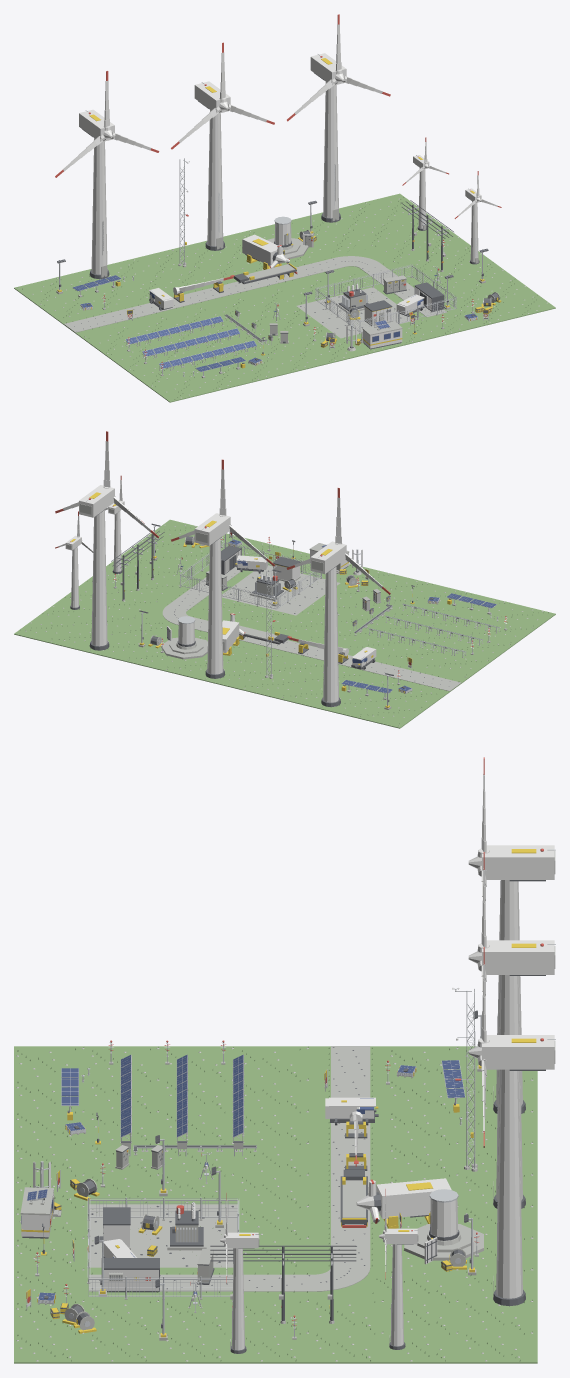
Rendered from wind-and-solar-energy-farm-ridge-wind-an-5fa78ffb-starter-scene__34086.glb.
3 views of the same model, one above another, from view 1: azimuth 30°, elevation 25°; view 2: azimuth 150°, elevation 25°; view 3: azimuth 270°, elevation 25° (orthographic). The views are drawn at different scales.
Visible parts, largest first — view 1: 071-wind-turbine-tower/1, 072-wind-turbine-tower/1, 070-wind-turbine-tower/1, 006-site-ground-tile/0, 027-site-ground-tile/0, 069-site-ground-tile/0, 055-site-ground-tile/0, 013-site-ground-tile/0, 057-site-ground-tile/0, 031-site-ground-tile/0, 000-site-ground-tile/0, 021-site-ground-tile/0 (+52 smaller); view 2: 071-wind-turbine-tower/1, 070-wind-turbine-tower/1, 072-wind-turbine-tower/1, 063-site-ground-tile/0, 000-site-ground-tile/0, 003-site-ground-tile/0, 006-site-ground-tile/0, 021-site-ground-tile/0, 005-site-ground-tile/0, 038-site-ground-tile/0, 029-site-ground-tile/0, 004-site-ground-tile/0 (+61 smaller); view 3: 072-wind-turbine-tower/1, 071-wind-turbine-tower/1, 070-wind-turbine-tower/1, 063-site-ground-tile/0, 031-site-ground-tile/0, 068-site-ground-tile/0, 065-site-ground-tile/0, 015-site-ground-tile/0, 069-site-ground-tile/0, 022-site-ground-tile/0, 024-site-ground-tile/0, 017-site-ground-tile/0 (+77 smaller).
Boxes of the visible parts, x1,y1,x2,y2 form: 071-wind-turbine-tower/1: (194,81,230,246); 072-wind-turbine-tower/1: (310,53,346,218); 070-wind-turbine-tower/1: (79,109,114,274); 006-site-ground-tile/0: (148,376,208,402); 027-site-ground-tile/0: (264,348,324,374); 069-site-ground-tile/0: (496,291,555,317); 055-site-ground-tile/0: (419,310,478,336); 013-site-ground-tile/0: (186,367,247,392); 057-site-ground-tile/0: (345,219,405,244); 031-site-ground-tile/0: (235,289,295,315); 000-site-ground-tile/0: (14,278,74,304); 021-site-ground-tile/0: (130,250,190,275); 071-wind-turbine-tower/1: (194,513,230,674); 070-wind-turbine-tower/1: (310,541,346,702); 072-wind-turbine-tower/1: (79,485,114,646); 063-site-ground-tile/0: (14,617,74,643); 000-site-ground-tile/0: (361,702,422,728); 003-site-ground-tile/0: (428,653,488,679); 006-site-ground-tile/0: (495,604,555,630); 021-site-ground-tile/0: (245,674,305,700); 005-site-ground-tile/0: (473,620,533,646); 038-site-ground-tile/0: (236,606,295,631); 029-site-ground-tile/0: (229,648,289,673); 004-site-ground-tile/0: (451,638,511,663); 072-wind-turbine-tower/1: (482,1035,554,1298); 071-wind-turbine-tower/1: (482,940,554,1200); 070-wind-turbine-tower/1: (482,845,554,1105); 063-site-ground-tile/0: (462,1331,537,1363); 031-site-ground-tile/0: (238,1172,313,1204); 068-site-ground-tile/0: (88,1331,163,1363); 065-site-ground-tile/0: (313,1331,387,1363); 015-site-ground-tile/0: (388,1109,462,1141); 069-site-ground-tile/0: (14,1331,88,1363); 022-site-ground-tile/0: (388,1141,462,1172); 024-site-ground-tile/0: (238,1141,313,1172); 017-site-ground-tile/0: (238,1109,313,1141).
Bounding box in the file's own units: 81.88 × 41.63 × 57.97.
